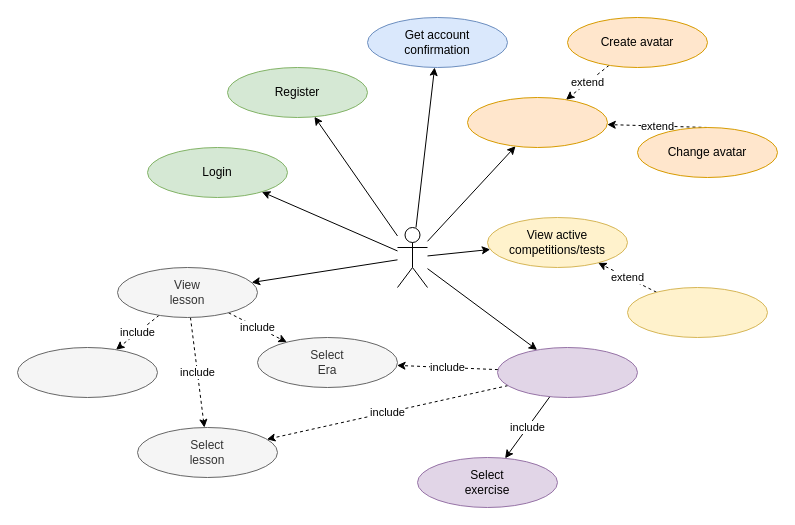
Some shapes in this 795 by 525 pixel diagram are drawn without their labels. The box of each missing label's shape, as (x1, y1, x2, y2) in pixels:
Select part of lesson: (16, 346, 158, 398)
Solve comp/test: (626, 286, 768, 338)
Solve exercise: (496, 346, 638, 398)
STUDENT: (396, 226, 428, 288)
View profile: (466, 96, 608, 148)
